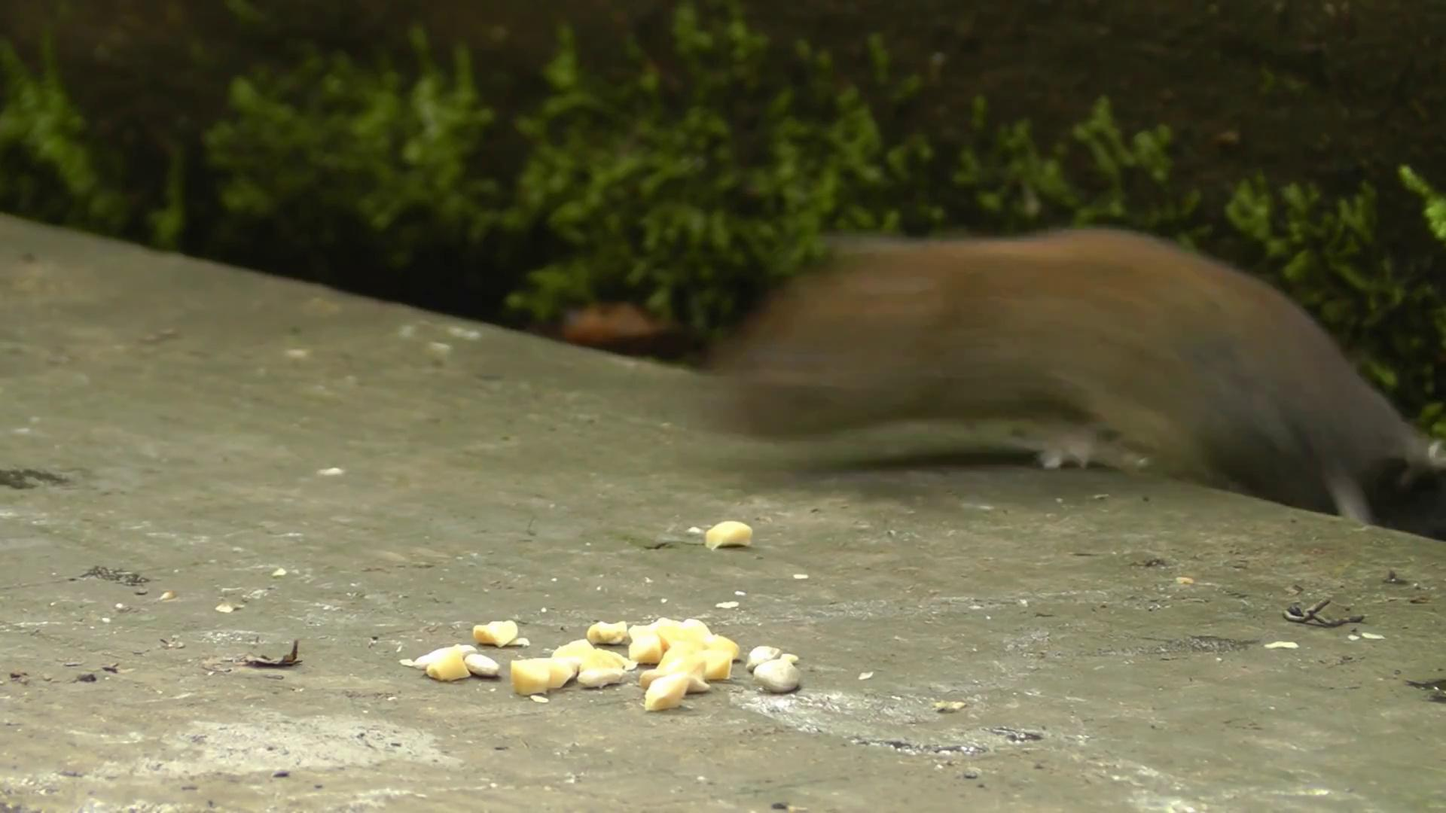rat: (689, 207, 1406, 534)
